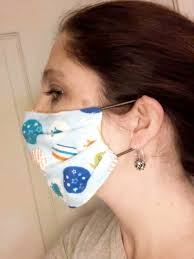with-mask: (16, 21, 184, 223)
